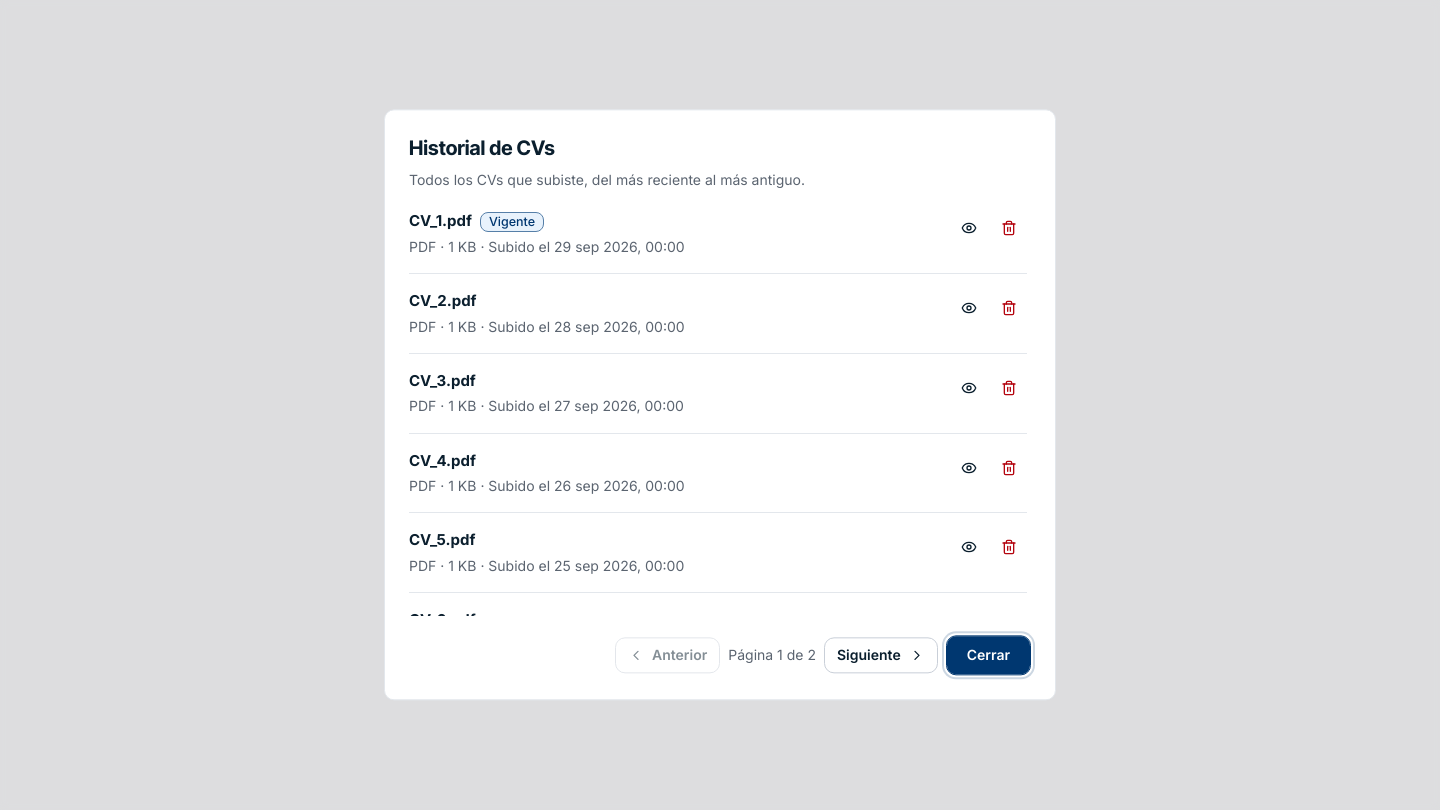
CvHistoryDialog › asks for confirmation inside the history before deleting a cv
Click the button named "Eliminar CV_3.pdf".
click(1009, 388)  # box [991, 370, 1027, 406]
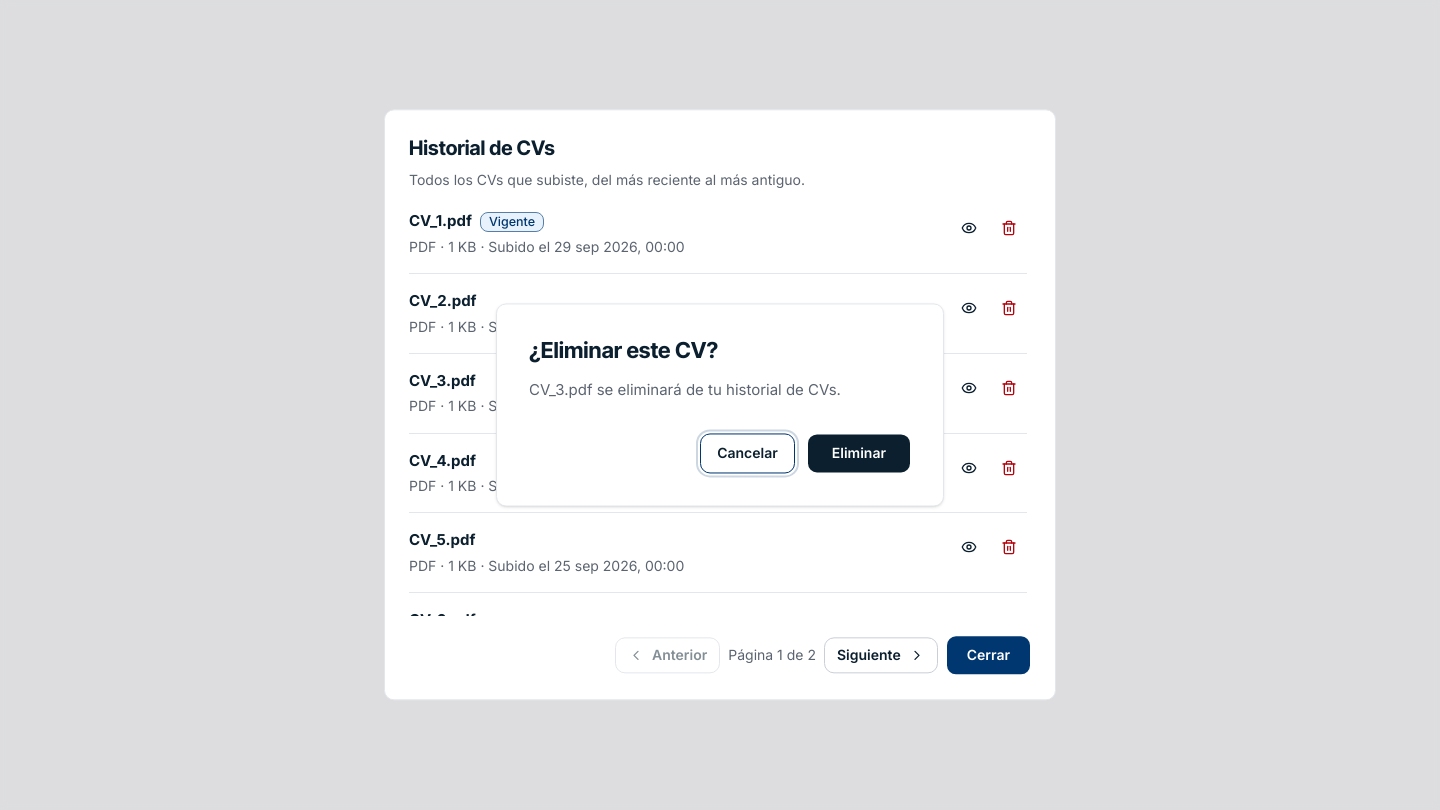
Click the button "Eliminar".
click(859, 454)  # box [807, 434, 911, 474]
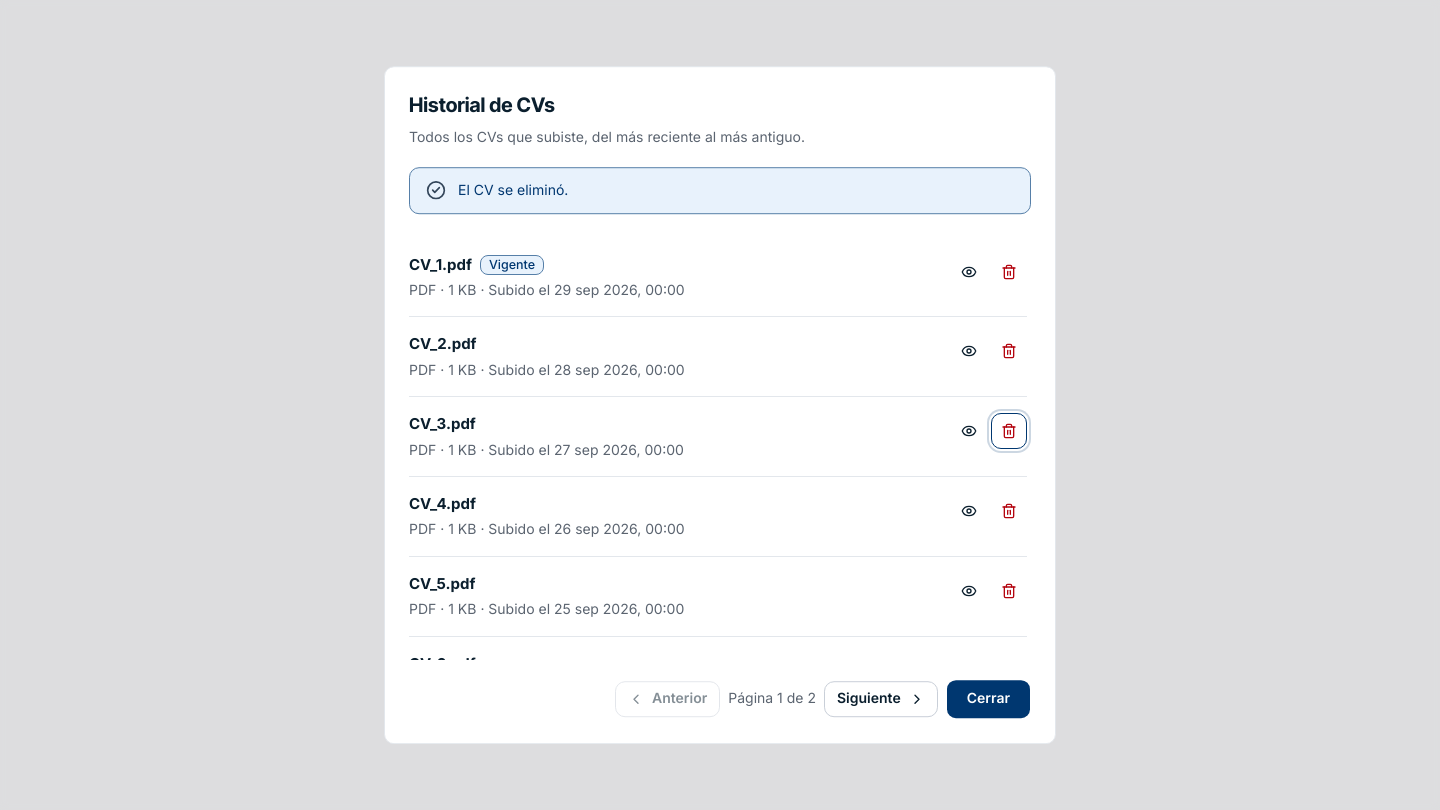
expect the message reads "El CV se eliminó.": met, box [458, 182, 568, 198]
